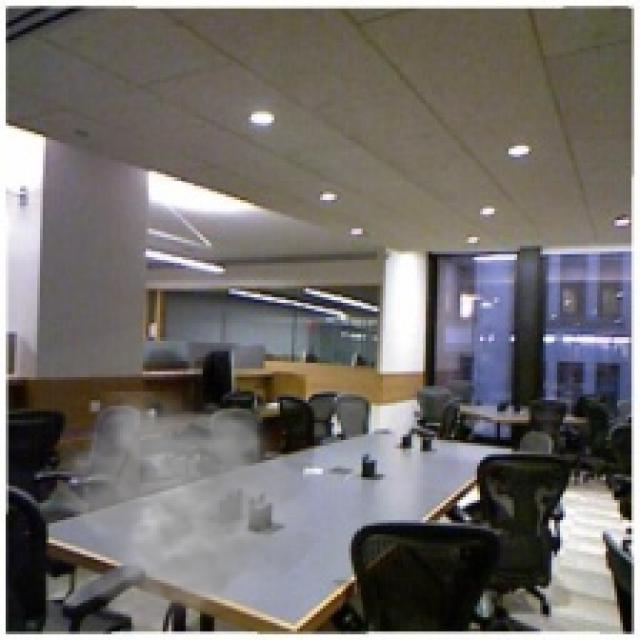smoke: (54, 392, 320, 634)
